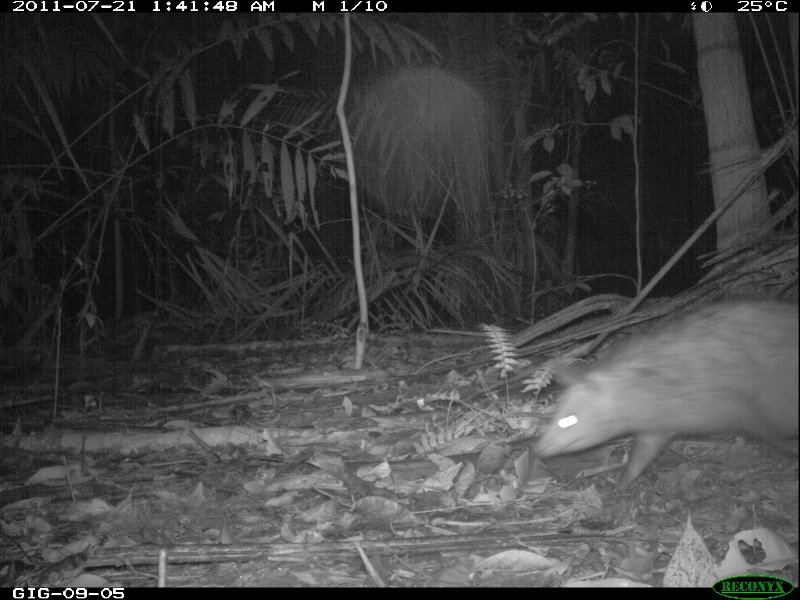opossum: (528, 299, 800, 485)
